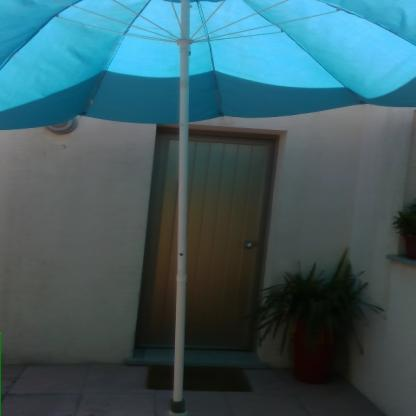closed: (134, 110, 290, 389)
